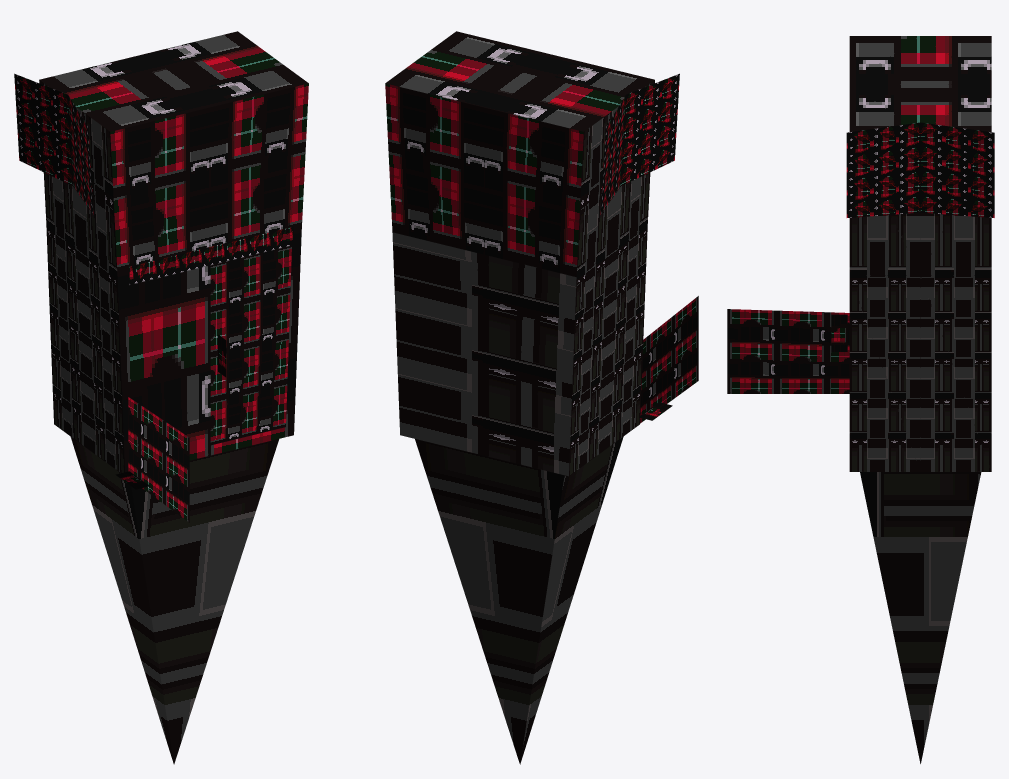
File: 3833kg3_ser14.gltf
3 views of the same model, side by side, from view 1: azimuth 30°, elevation 25°; view 2: azimuth 150°, elevation 25°; view 3: azimuth 270°, elevation 25° (orthographic).
Visible parts, largest first — view 1: 3833kg3_ser14; view 2: 3833kg3_ser14; view 3: 3833kg3_ser14.
Boxes of the visible parts, x1,y1,x2,y2 form: 3833kg3_ser14: [14, 31, 308, 764]; 3833kg3_ser14: [385, 31, 698, 764]; 3833kg3_ser14: [727, 36, 994, 763].
Size of the model in its own units: 0.9265 by 2.52 by 0.8826.
Materials: 3 (3 with a texture image).
